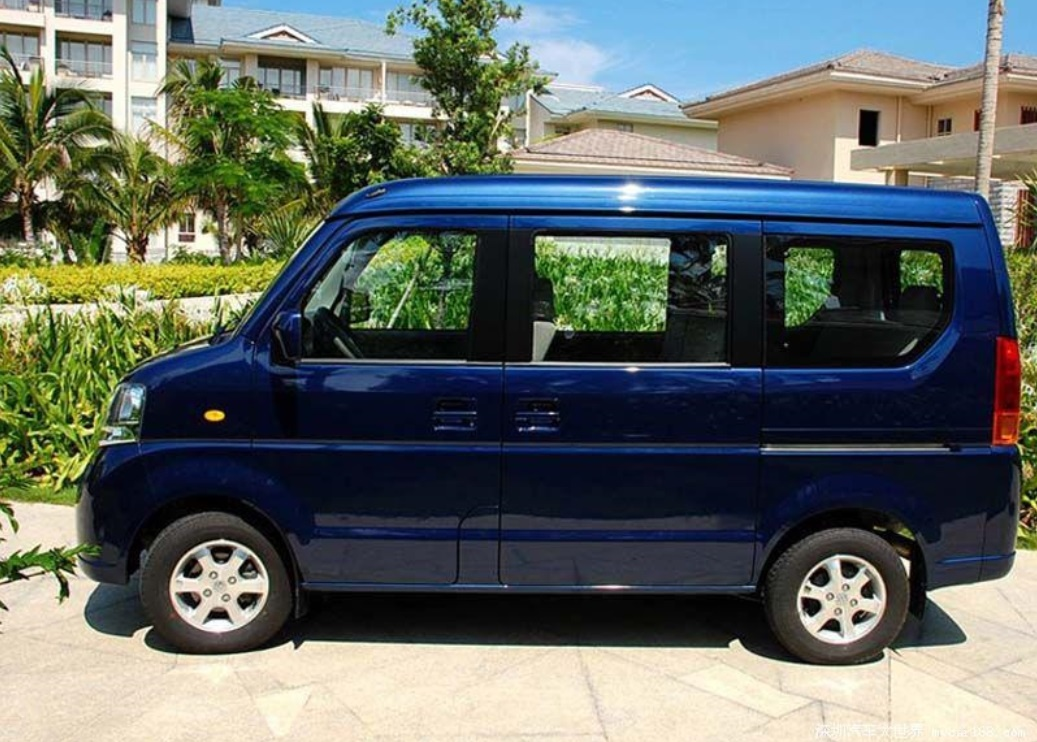minibus: (84, 156, 1014, 666)
